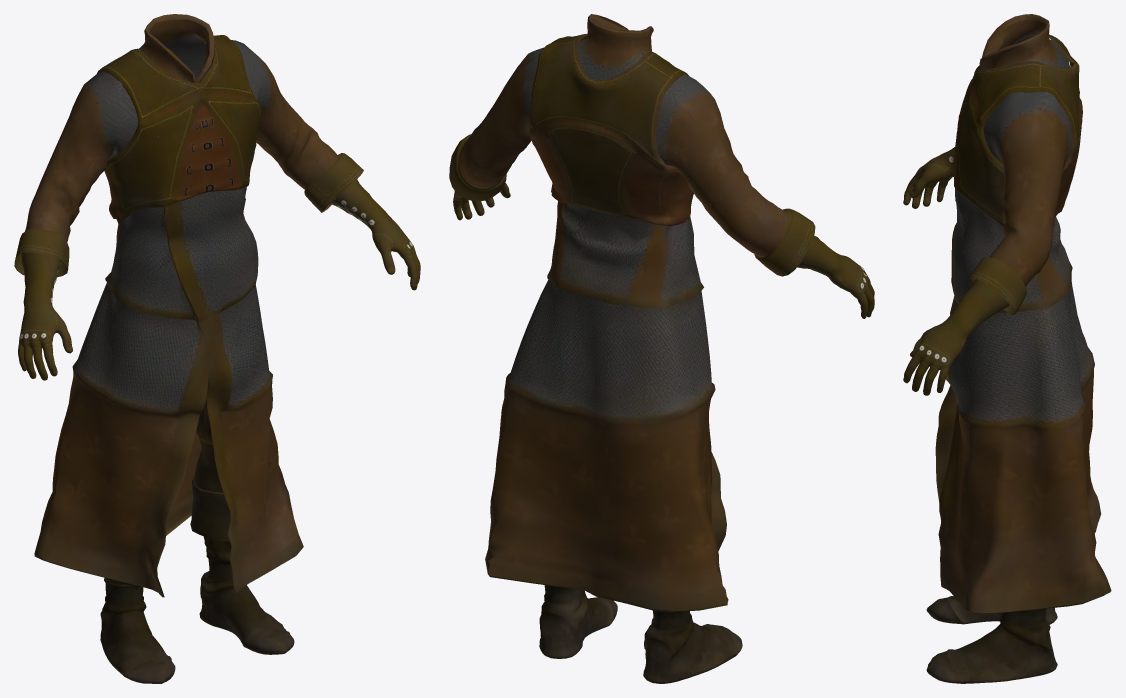
File: wanderer_coat.glb
3 views of the same model, side by side, from view 1: azimuth 30°, elevation 25°; view 2: azimuth 150°, elevation 25°; view 3: azimuth 270°, elevation 25° (orthographic). The views are drawn at different scales.
Visible parts, largest first — view 1: outfit; view 2: outfit; view 3: outfit.
Boxes of the visible parts, left/top/right/bottom form: outfit: left=14, top=14, right=420, bottom=683; outfit: left=449, top=14, right=874, bottom=683; outfit: left=903, top=14, right=1111, bottom=683.
Size of the model in its own units: 1.22 by 1.8 by 0.5477.
Materials: 1 (1 with a texture image).
